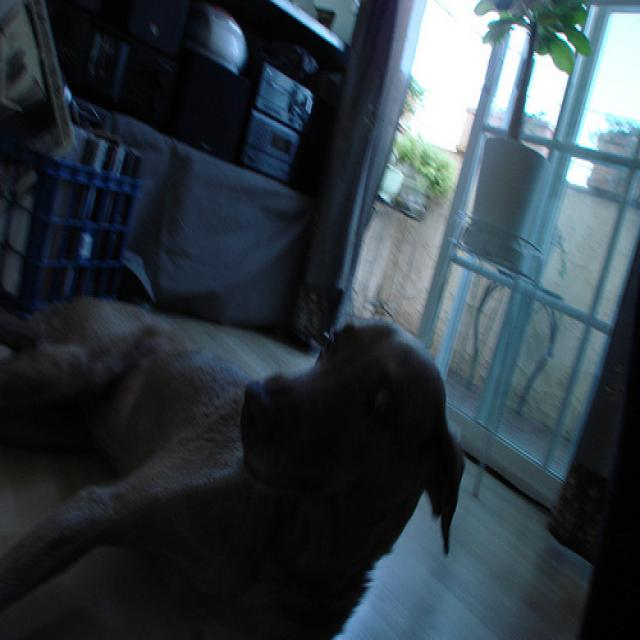dog: (0, 322, 472, 640)
